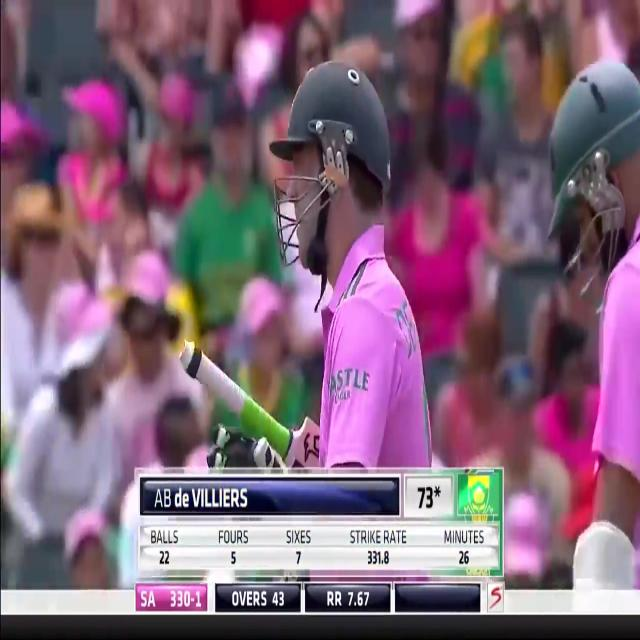Ball: (242, 64, 439, 473), (554, 56, 640, 595)
